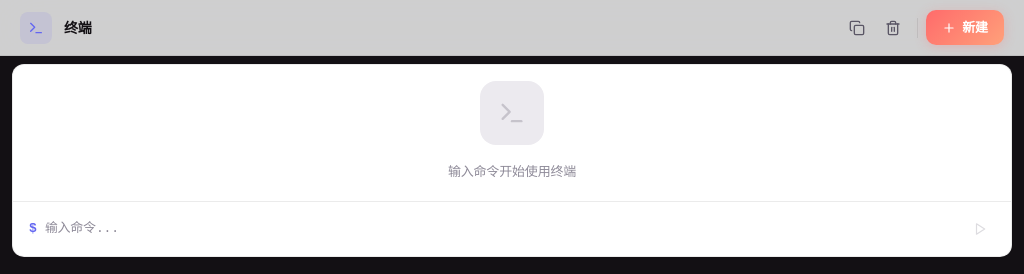
it: TerminalPage › executes a shell command and renders stdout into the session history
In the field with placeholder "输入命令...": (501, 229) [45,219,957,239], type "echo hi"
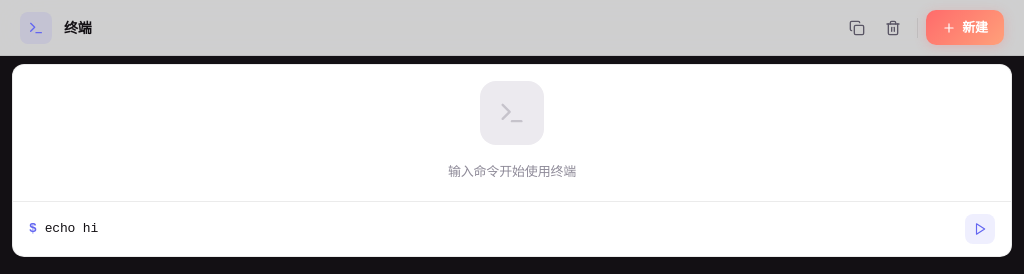
Click the button titled "执行": (980, 229) [965,214,995,244]
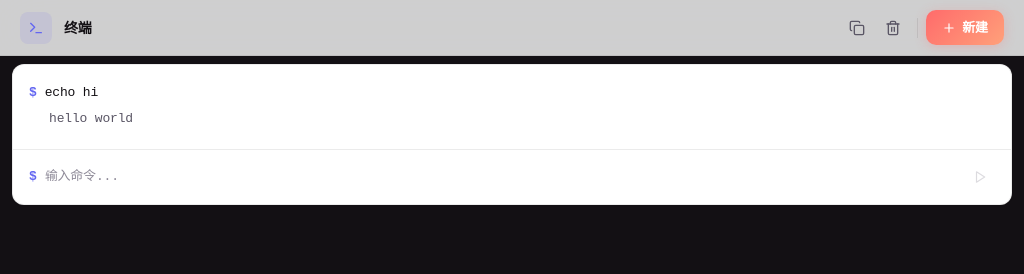
Check: the text "hello world" is shown, box [49,111,133,126]
Check: the text "echo hi" is shown, box [45,81,98,105]
